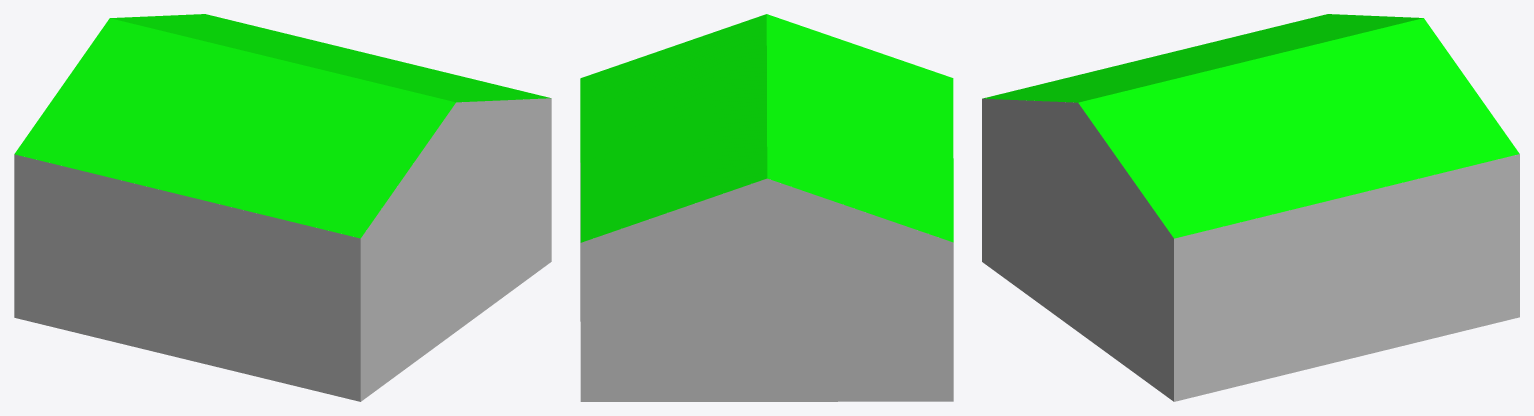
The model's file is DEHB01ALs0000g0i.gltf.
The picture shows the model from 3 angles, left to right: view 1: azimuth 30°, elevation 25°; view 2: azimuth 150°, elevation 25°; view 3: azimuth 270°, elevation 25°; orthographic projection. The views are drawn at different scales.
Parts seen in each view (by area): view 1: Z_UP; view 2: Z_UP; view 3: Z_UP.
Boxes of the visible parts, x1=… form: Z_UP: x1=14, y1=14, x2=551, y2=401; Z_UP: x1=580, y1=14, x2=953, y2=401; Z_UP: x1=982, y1=14, x2=1519, y2=401.
Size of the model in its own units: 7.52 by 3.58 by 7.61.
